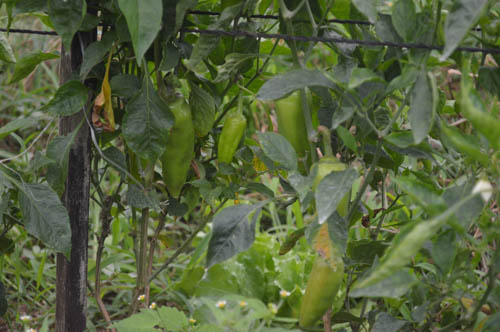ChiliPepper: (157, 101, 196, 193), (297, 257, 344, 330), (273, 96, 306, 169), (220, 115, 244, 165)
